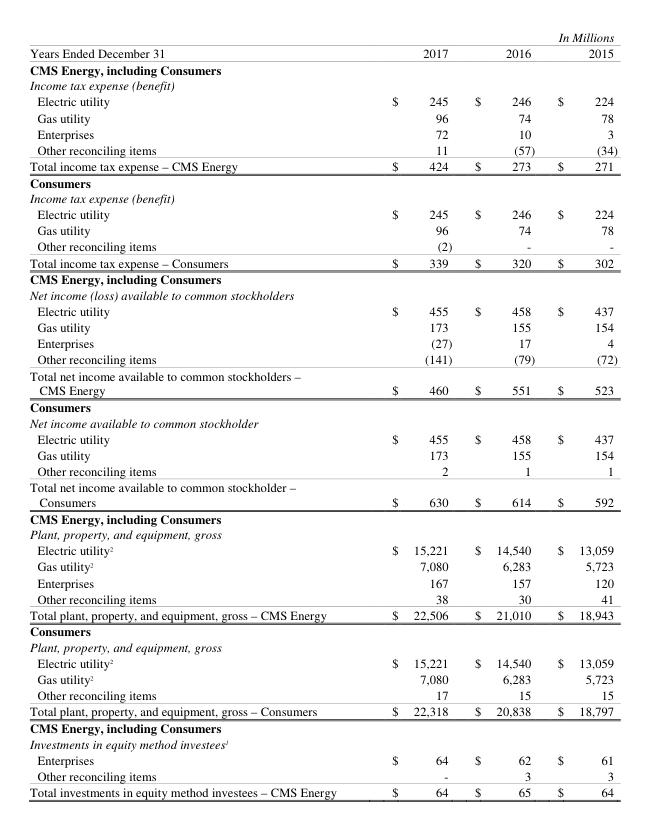table: (28, 29, 617, 799)
table column: (28, 29, 363, 799), (363, 29, 462, 799), (462, 29, 545, 799), (545, 29, 617, 799)
table column header: (28, 29, 617, 60)
table projected row header: (28, 718, 617, 736), (28, 60, 617, 77), (28, 173, 617, 190), (28, 270, 617, 287), (28, 397, 617, 414), (28, 509, 617, 526), (28, 622, 617, 639), (28, 77, 617, 92), (28, 190, 617, 205), (28, 414, 617, 429), (28, 526, 617, 541), (28, 639, 617, 654), (28, 287, 617, 301), (28, 736, 617, 750)
table row: (28, 29, 617, 60), (28, 366, 617, 397), (28, 478, 617, 509), (28, 718, 617, 736), (28, 60, 617, 77), (28, 156, 617, 173), (28, 173, 617, 190), (28, 253, 617, 270), (28, 270, 617, 287), (28, 317, 617, 334), (28, 397, 617, 414), (28, 461, 617, 478), (28, 509, 617, 526), (28, 605, 617, 622), (28, 622, 617, 639), (28, 782, 617, 799), (28, 92, 617, 108), (28, 108, 617, 124), (28, 124, 617, 140), (28, 140, 617, 156), (28, 205, 617, 221), (28, 221, 617, 237), (28, 237, 617, 253), (28, 301, 617, 317), (28, 334, 617, 350), (28, 350, 617, 366), (28, 429, 617, 445), (28, 445, 617, 461), (28, 541, 617, 557), (28, 557, 617, 573), (28, 573, 617, 589), (28, 589, 617, 605), (28, 654, 617, 670), (28, 670, 617, 686), (28, 686, 617, 702), (28, 702, 617, 718), (28, 750, 617, 766), (28, 766, 617, 782), (28, 77, 617, 92), (28, 190, 617, 205), (28, 414, 617, 429), (28, 526, 617, 541), (28, 639, 617, 654), (28, 287, 617, 301), (28, 736, 617, 750)
